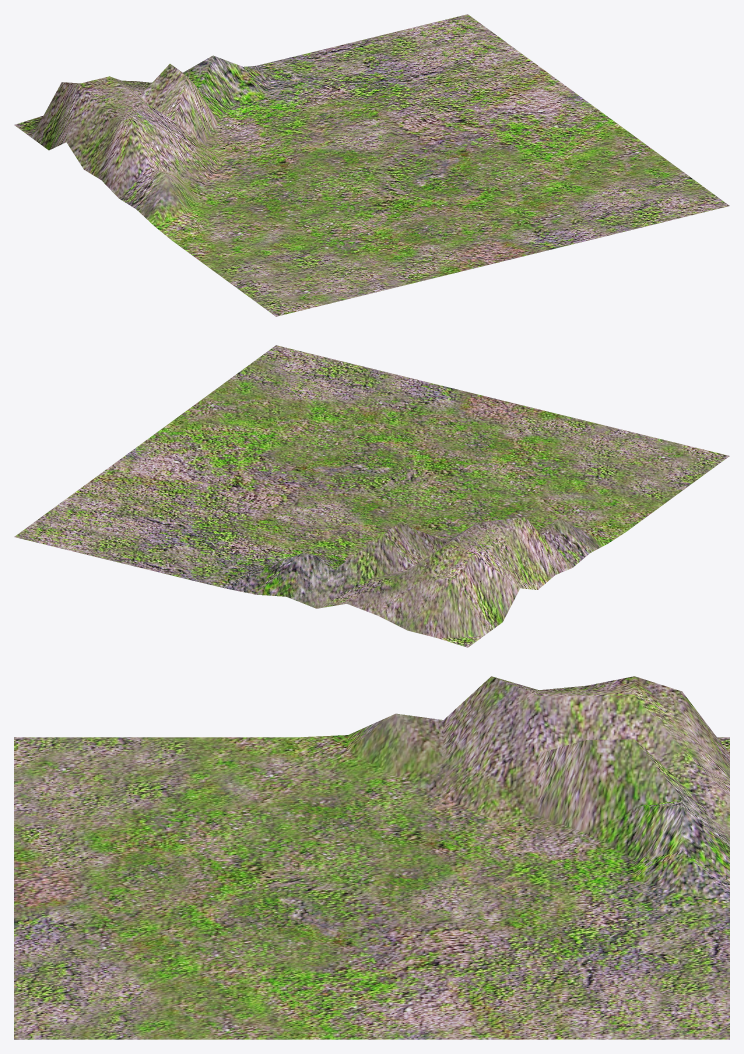
File: floor.DAE
3 renders of one model, top to bottom at view 1: azimuth 30°, elevation 25°; view 2: azimuth 150°, elevation 25°; view 3: azimuth 270°, elevation 25°, orthographic. The views are drawn at different scales.
Parts seen in each view (by area): view 1: Terra001; view 2: Terra001; view 3: Terra001.
Boxes of the visible parts, x1,y1,x2,y2 form: Terra001: [14, 14, 729, 316]; Terra001: [14, 345, 729, 647]; Terra001: [14, 676, 729, 1039].
Size of the model in its own units: 5000 by 5000 by 625.
